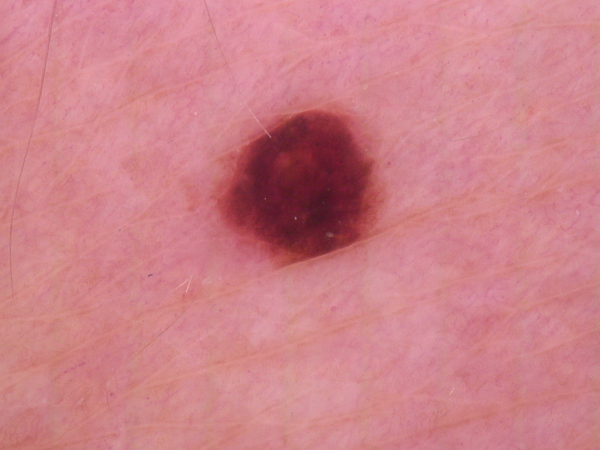Detected Lesion: (211, 97, 389, 265)
